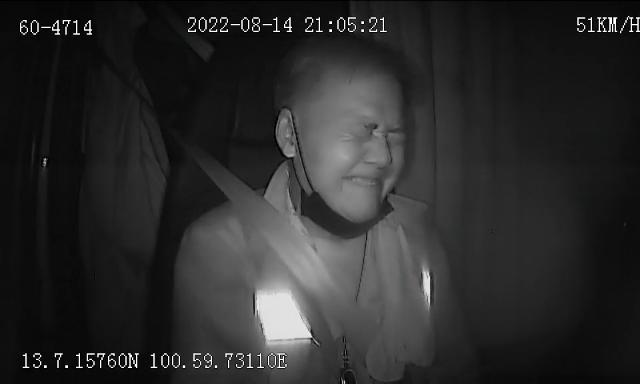Seatbelt: (202, 154, 378, 364)
